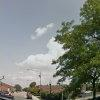Tree: (50, 7, 100, 99)
